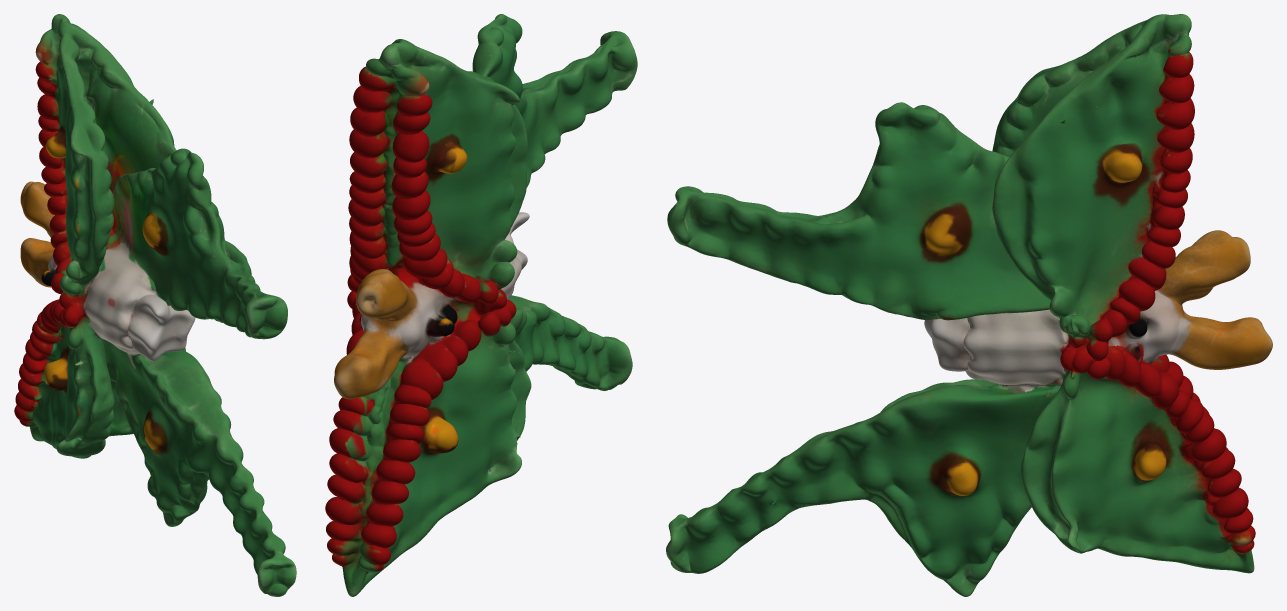
3 renders of one model, left to right at view 1: azimuth 30°, elevation 25°; view 2: azimuth 150°, elevation 25°; view 3: azimuth 270°, elevation 25°, orthographic. The views are drawn at different scales.
Visible parts, largest first — view 1: tripo_node_0c8c2bd0-1418-4a94-869b-38aca908f9d9; view 2: tripo_node_0c8c2bd0-1418-4a94-869b-38aca908f9d9; view 3: tripo_node_0c8c2bd0-1418-4a94-869b-38aca908f9d9.
Part boxes in pixels (left/top/right/bottom): tripo_node_0c8c2bd0-1418-4a94-869b-38aca908f9d9: left=14, top=14, right=296, bottom=596; tripo_node_0c8c2bd0-1418-4a94-869b-38aca908f9d9: left=325, top=14, right=637, bottom=596; tripo_node_0c8c2bd0-1418-4a94-869b-38aca908f9d9: left=666, top=14, right=1272, bottom=596.
Size of the model in its own units: 0.3396 by 1 by 0.9725.
1 material, 1 textured.
